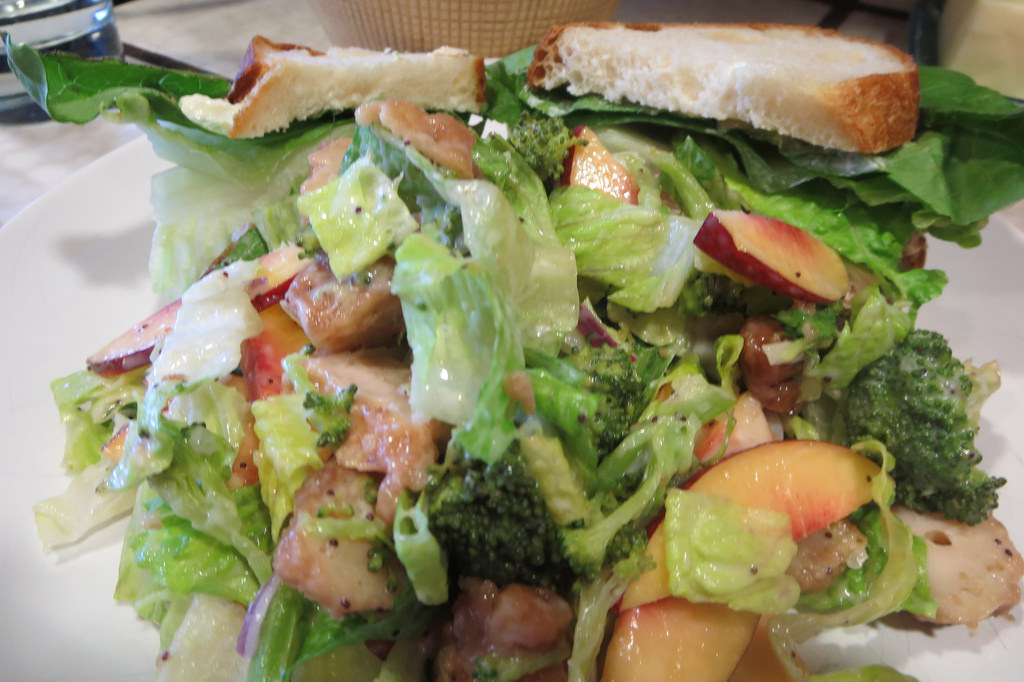chopped lettuce: (401, 184, 635, 411)
slice of bread: (527, 22, 933, 152), (235, 39, 492, 117)
